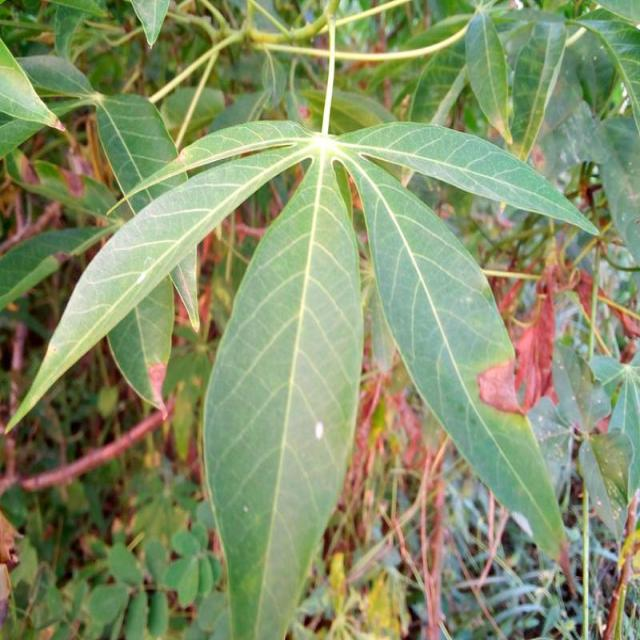cassava leaf: (338, 144, 571, 573), (201, 150, 365, 639)
